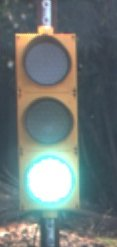Green: (5, 23, 92, 229)
